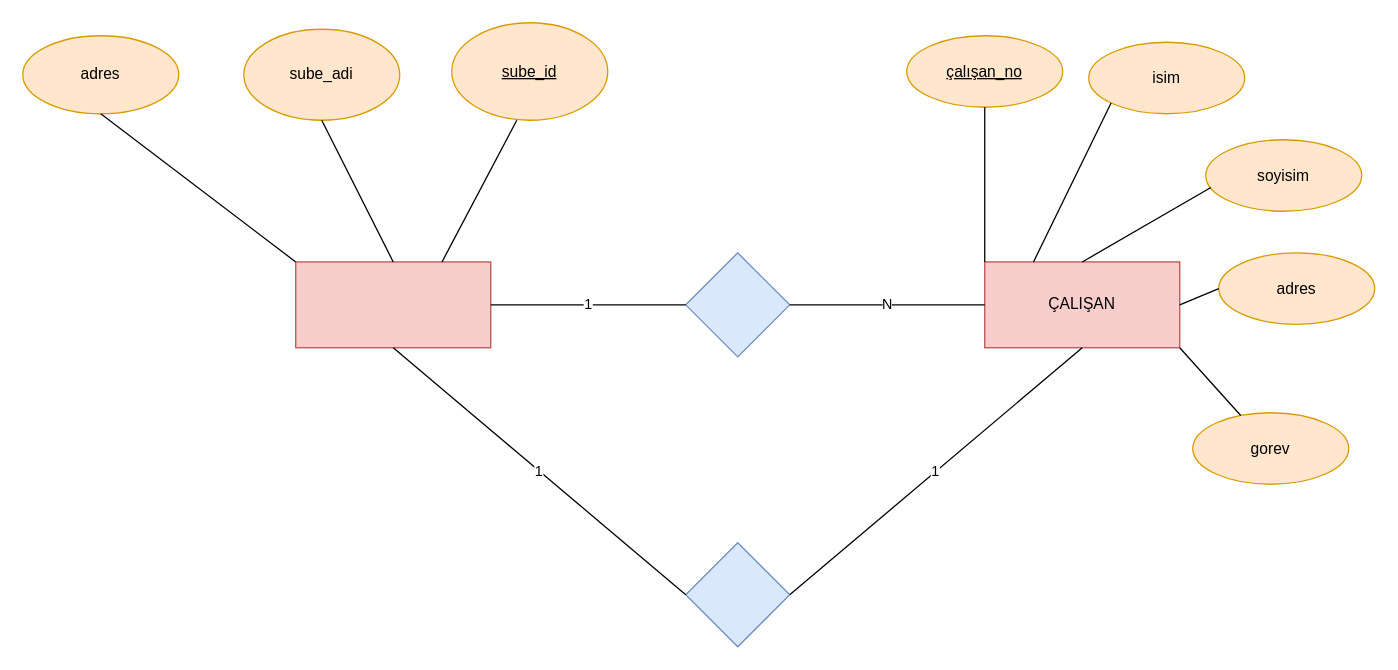
Some shapes in this 1398 by 670 pixel diagram are drawn without their labels. The box of each missing label's shape, as (x1, y1, x2, y2) in pixels:
SUBE: (294, 261, 491, 348)
YÖNETİR: (684, 541, 790, 647)
ÇALIŞIR: (684, 252, 790, 357)
